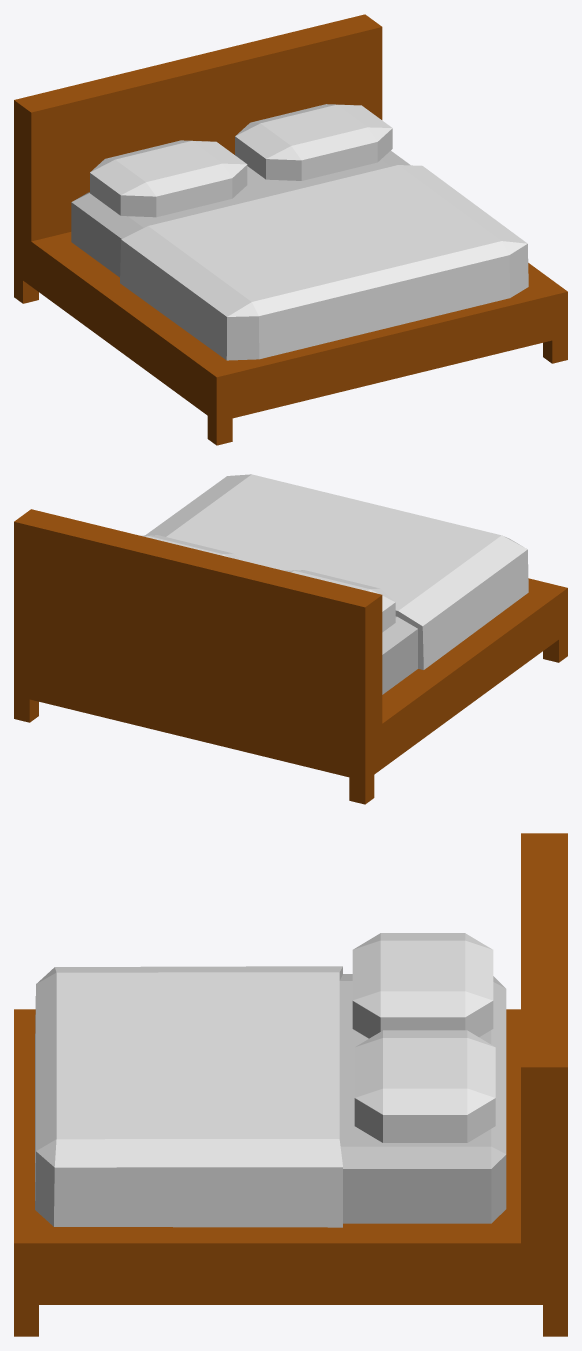
Rendered from bed.fbx.
3 views of the same model, one above another, from view 1: azimuth 30°, elevation 25°; view 2: azimuth 150°, elevation 25°; view 3: azimuth 270°, elevation 25° (orthographic). The views are drawn at different scales.
Visible parts, largest first — view 1: BedBase, Duvet, PillowLeft, PillowRight, Cube; view 2: BedBase, Duvet, Cube, PillowLeft, PillowRight; view 3: Duvet, BedBase, Cube, PillowRight, PillowLeft.
Part boxes in pixels (box(x1,y1,x2,y2)): BedBase: box(14, 14, 567, 445); Duvet: box(120, 165, 528, 360); PillowLeft: box(90, 140, 247, 217); PillowRight: box(235, 104, 392, 180); Cube: box(71, 151, 410, 277); BedBase: box(14, 509, 567, 804); Duvet: box(145, 474, 528, 669); Cube: box(382, 616, 417, 694); PillowLeft: box(284, 570, 395, 632); PillowRight: box(141, 535, 240, 560); Duvet: box(35, 966, 342, 1227); BedBase: box(14, 833, 567, 1336); Cube: box(339, 974, 506, 1223); PillowRight: box(354, 1030, 495, 1142); PillowLeft: box(352, 933, 493, 1038).
Bounding box in the file's own units: 555 × 298 × 555.
